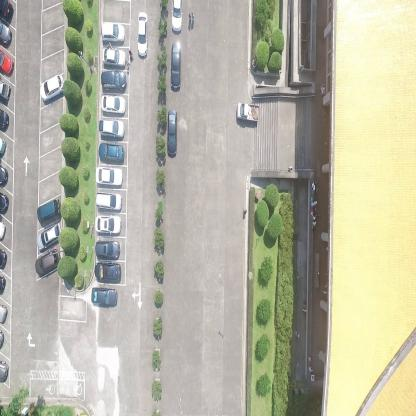car: (39, 70, 65, 102), (36, 220, 62, 251), (35, 245, 60, 276), (37, 197, 61, 225), (94, 260, 121, 284), (94, 166, 123, 188), (94, 192, 123, 214), (136, 10, 149, 59), (100, 70, 127, 93), (94, 215, 122, 236), (101, 93, 126, 116), (170, 41, 181, 93), (100, 22, 126, 44), (98, 119, 126, 139), (101, 46, 126, 68), (91, 287, 118, 307), (98, 142, 124, 162), (167, 106, 177, 157), (235, 101, 258, 123), (95, 240, 121, 258), (171, 0, 183, 33), (0, 48, 14, 76), (0, 20, 13, 47), (0, 0, 14, 23), (0, 80, 12, 102), (0, 108, 9, 132)
